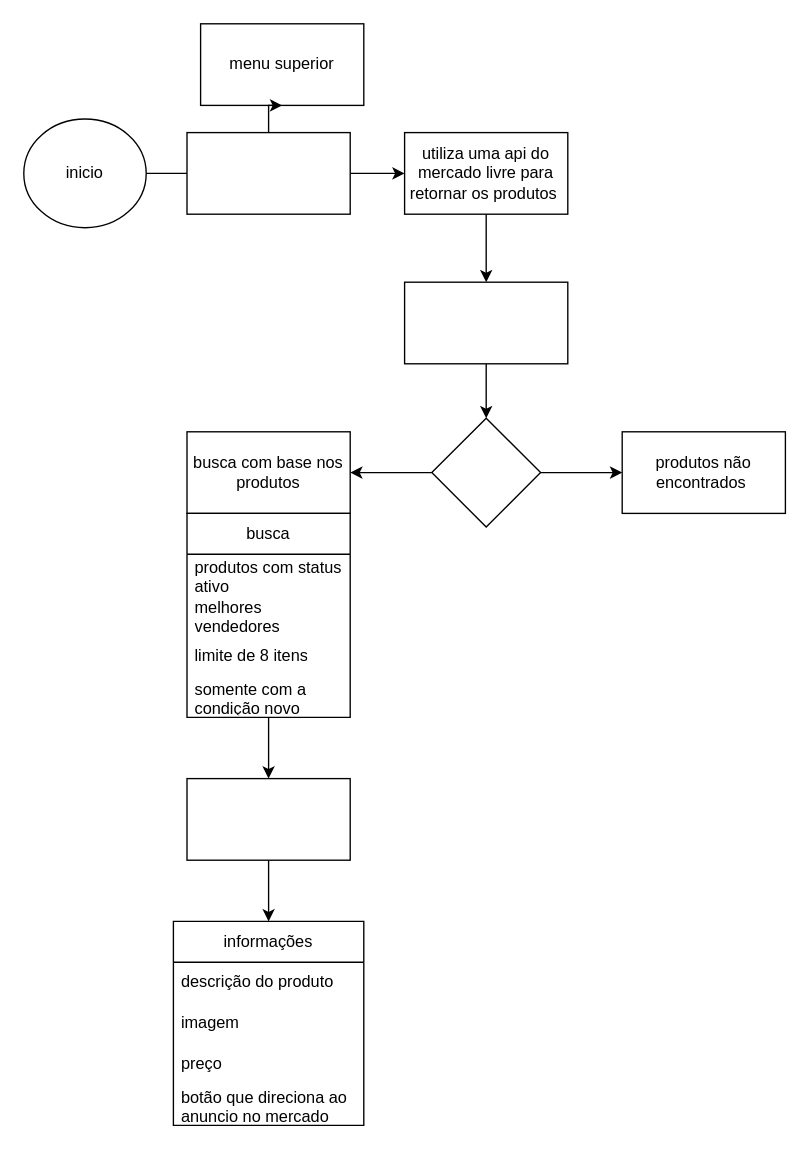
The diagram is 809 pixels wide and 1149 high, and some of its shapes have lost their labels. The shapes that lost their labels are listed below. From the top down, each one's box as (x1, y1, x2, y2) in pixels, then its label:
(186, 131, 350, 214): busca produtos com base na quantidade minima
(403, 281, 568, 364): verifica os produtos de acordo com os parametros passados
(430, 417, 541, 527): verifica
(186, 777, 350, 860): produtos retornados com as seguintes informaçoes
